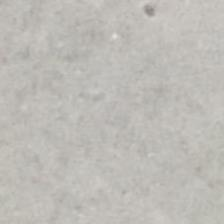Non_Crack: (8, 26, 224, 198)
